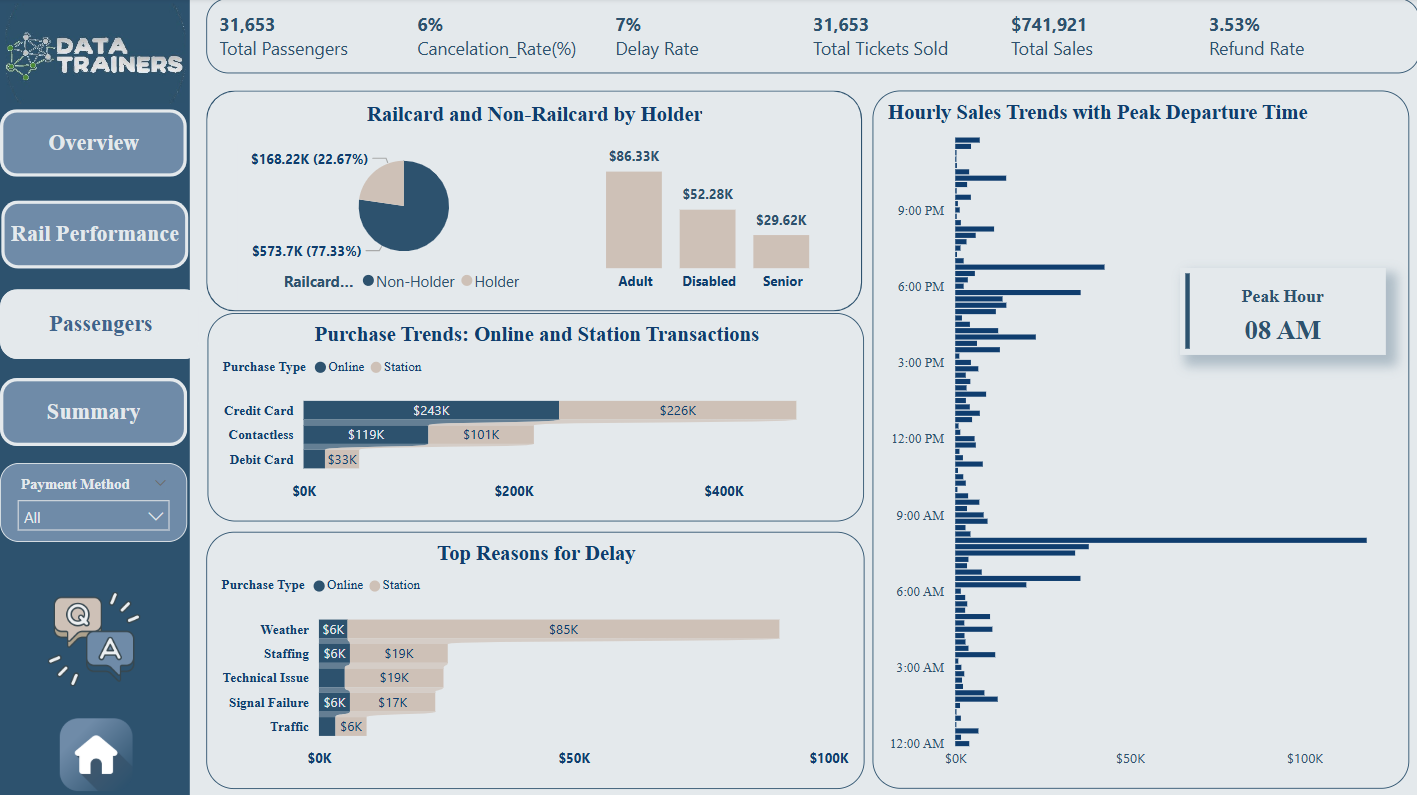

The dashboard page shown, as its layout file describes it:
{"tool":"powerbi","page":{"name":"Passengers ","canvas":[1280,720],"ordinal":2},"visuals":[{"type":"shape","box":[0,0,171.2,720.2],"z":0},{"type":"image","box":[0,0,172,100],"z":1000},{"type":"actionButton","box":[0,342.9,169,61.4],"z":2000},{"type":"actionButton","box":[0,262.9,182,62.9],"z":3000},{"type":"actionButton","box":[1.4,182.9,169,61.4],"z":4000},{"type":"actionButton","box":[0,100,169,61],"z":5000},{"type":"image","box":[1.4,644.3,171.4,75.7],"z":6000},{"type":"image","box":[0,531.4,170,94.3],"z":7000},{"type":"multiRowCard","fields":{"Values":["_Measures.Total Passengers","_Measures.Cancelation_Rate(%)","_Measures.Delay Rate","_Measures.Total Tickets Sold","_Measures.Total Sales","_Measures.Refund Rate"]},"box":[185.6,0,1094.4,67.6],"z":8000},{"type":"clusteredBarChart","title":"Hourly Sales Trends with Peak Departure Time","fields":{"Category":["Fact_Transaction.Departure Time"],"Y":["_Measures.Total Sales"]},"box":[786.7,83.5,483.7,629.6],"z":9000},{"type":"cardVisual","fields":{"Data":["_Measures.Peak Hour"]},"box":[1063.5,243.1,185.8,78.5],"z":10000},{"type":"barChart","title":"Top Reasons for Delay","fields":{"Y":["_Measures.Total Sales"],"Series":["Dim_Purchase.Purchase Type"],"Category":["Dim_Delay.Reason for Delay"]},"box":[185.8,481.2,593.5,231.9],"z":11000},{"type":"shape","box":[185.8,83.5,592.2,199.5],"z":12000},{"type":"pieChart","fields":{"Y":["_Measures.Total Sales"],"Category":["Dim_Railcard.Railcard Holder"]},"box":[214.4,130.9,300.5,143.4],"z":13000},{"type":"columnChart","fields":{"Y":["_Measures.Total Sales"],"Category":["Dim_Railcard.Railcard"]},"box":[514.9,120.9,249.4,153.4],"z":14000},{"type":"slicer","fields":{"Values":["Dim_Payment.Payment Method"]},"box":[0,419.8,168.6,70.9],"z":15000},{"type":"barChart","title":"Purchase Trends: Online and Station Transactions","fields":{"Y":["_Measures.Total Sales"],"Series":["Dim_Purchase.Purchase Type"],"Category":["Dim_Payment.Payment Method"]},"box":[187,284.3,592.2,188.3],"z":16000}]}

Visuals, with their boxes in screenshot pixels (x1, y1, x2, y2), scaled from the page's 1280x720 canvas onto the 1417x795 screenshot:
shape: (x1=0, y1=0, x2=190, y2=794)
image: (x1=0, y1=0, x2=190, y2=110)
actionButton: (x1=0, y1=379, x2=187, y2=446)
actionButton: (x1=0, y1=290, x2=201, y2=360)
actionButton: (x1=2, y1=202, x2=189, y2=270)
actionButton: (x1=0, y1=110, x2=187, y2=178)
image: (x1=2, y1=711, x2=191, y2=794)
image: (x1=0, y1=587, x2=188, y2=691)
multiRowCard - _Measures.Total Passengers x _Measures.Cancelation_Rate(%): (x1=205, y1=0, x2=1416, y2=75)
"Hourly Sales Trends with Peak Departure Time" clusteredBarChart: (x1=871, y1=92, x2=1406, y2=787)
cardVisual - _Measures.Peak Hour: (x1=1177, y1=268, x2=1383, y2=355)
"Top Reasons for Delay" barChart: (x1=206, y1=531, x2=863, y2=787)
shape: (x1=206, y1=92, x2=861, y2=312)
pieChart - _Measures.Total Sales x Dim_Railcard.Railcard Holder: (x1=237, y1=145, x2=570, y2=303)
columnChart - _Measures.Total Sales x Dim_Railcard.Railcard: (x1=570, y1=133, x2=846, y2=303)
slicer - Dim_Payment.Payment Method: (x1=0, y1=464, x2=187, y2=542)
"Purchase Trends: Online and Station Transactions" barChart: (x1=207, y1=314, x2=863, y2=522)
